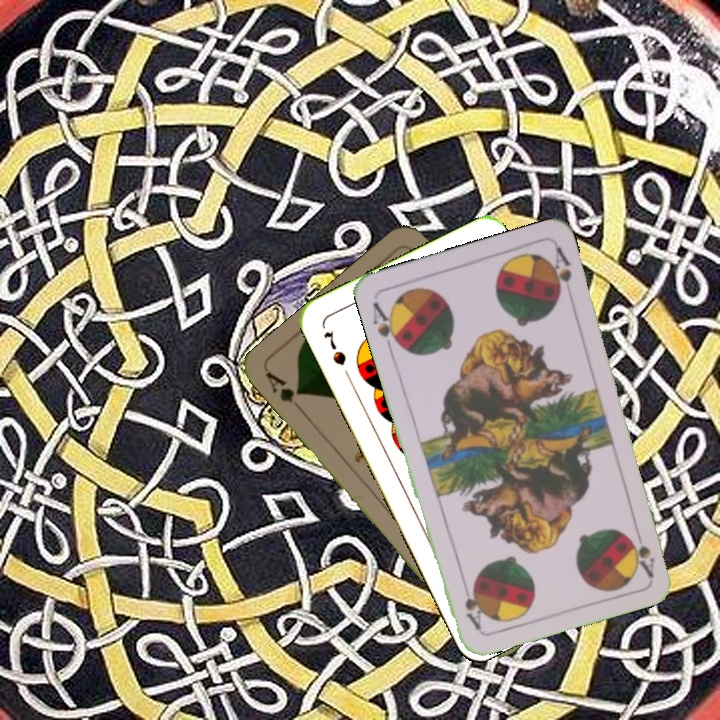GA: (262, 368, 307, 416)
S7: (319, 327, 349, 369)
SA: (368, 297, 405, 354), (629, 521, 657, 579)
